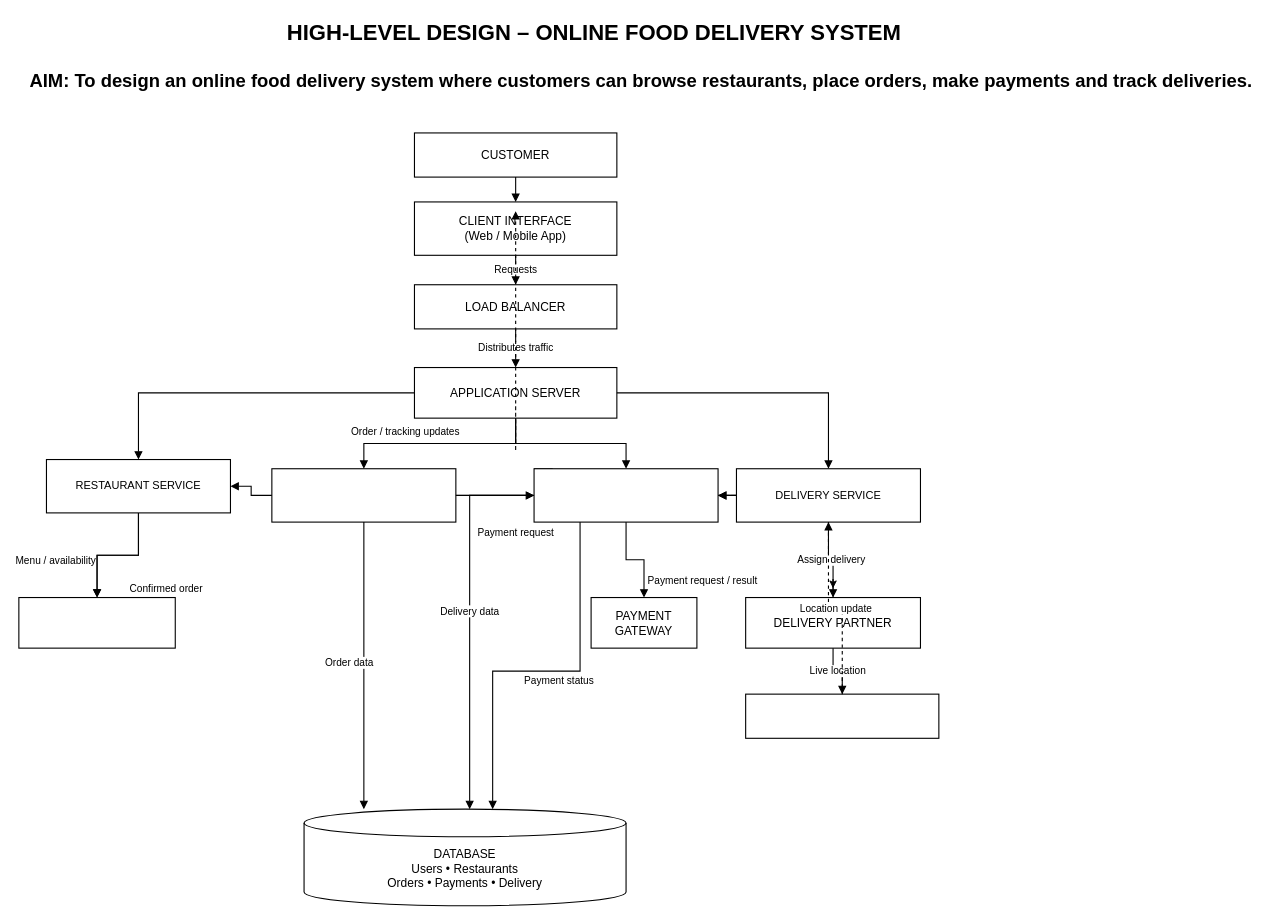
Some shapes in this 1277 by 922 pixel diagram are drawn without their labels. Each missing label, with the centre of its shape:
"GPS / LOCATION TRACKING" goes at [842,715].
"ORDER SERVICE" goes at [363,495].
"PAYMENT SERVICE" goes at [625,495].
"RESTAURANT" goes at [96,622].
